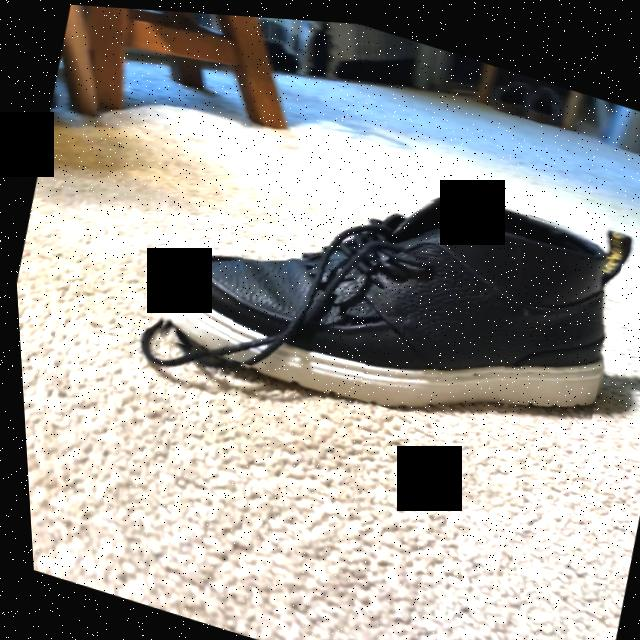shoe: (164, 188, 602, 401)
